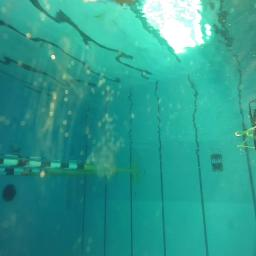Full: (252, 120, 256, 150)
front: (211, 154, 223, 172)
